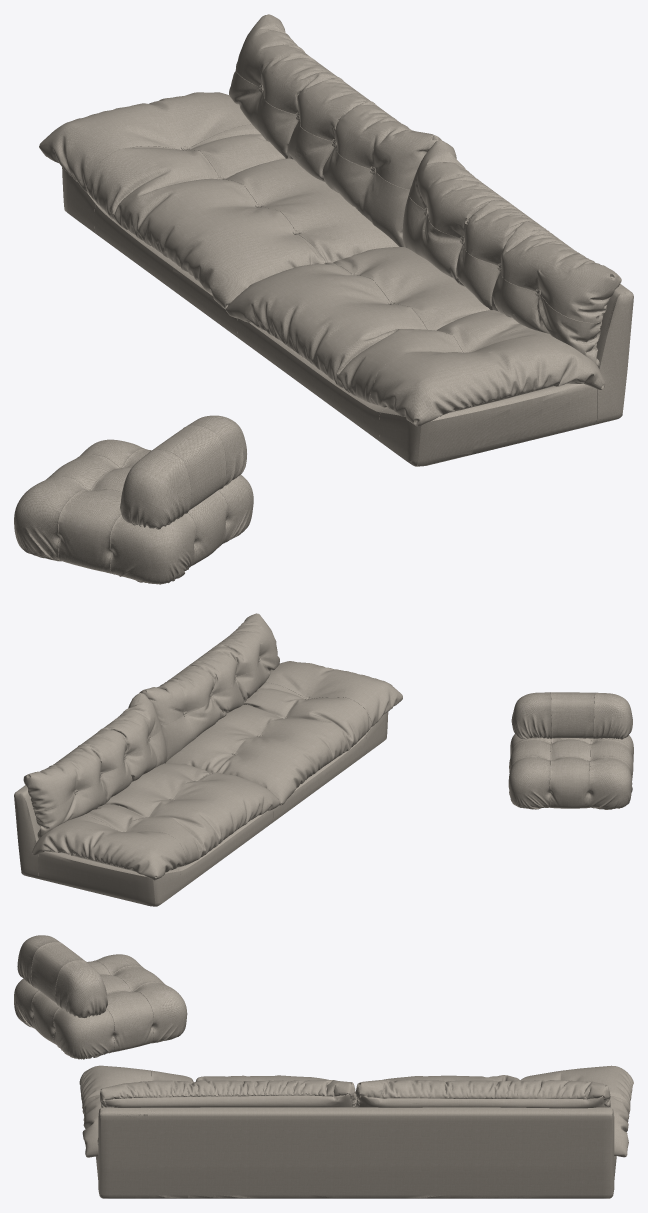
Rendered from Sofa.fbx.
3 views of the same model, one above another, from view 1: azimuth 30°, elevation 25°; view 2: azimuth 150°, elevation 25°; view 3: azimuth 270°, elevation 25° (orthographic). The views are drawn at different scales.
Visible parts, largest first — view 1: Material2.040; view 2: Material2.040; view 3: Material2.040.
Part boxes in pixels (box(x1,y1,x2,y2)): Material2.040: box(14, 14, 633, 584); Material2.040: box(14, 613, 633, 906); Material2.040: box(14, 935, 633, 1198).
Size of the model in its own units: 233 by 58.3 by 285.
Materials: 1 (1 with a texture image).
